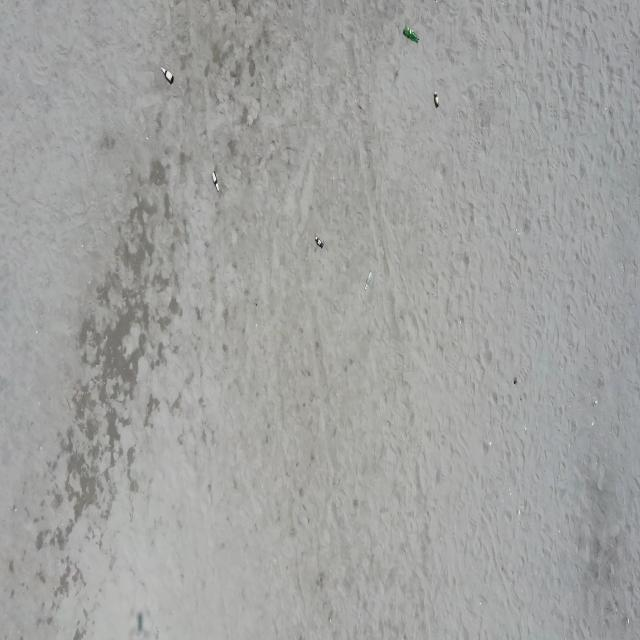glass: (403, 25, 420, 41), (160, 66, 173, 84), (212, 170, 220, 192), (365, 270, 373, 290), (315, 235, 324, 249), (434, 91, 440, 108)
